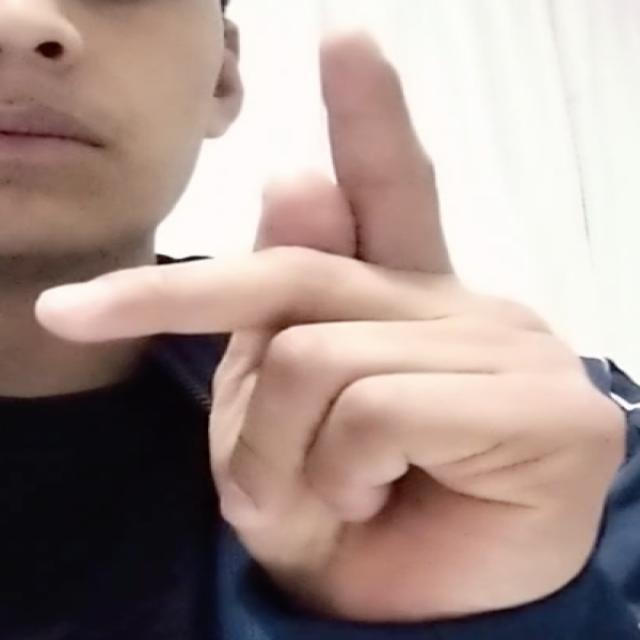P: (23, 20, 638, 628)
